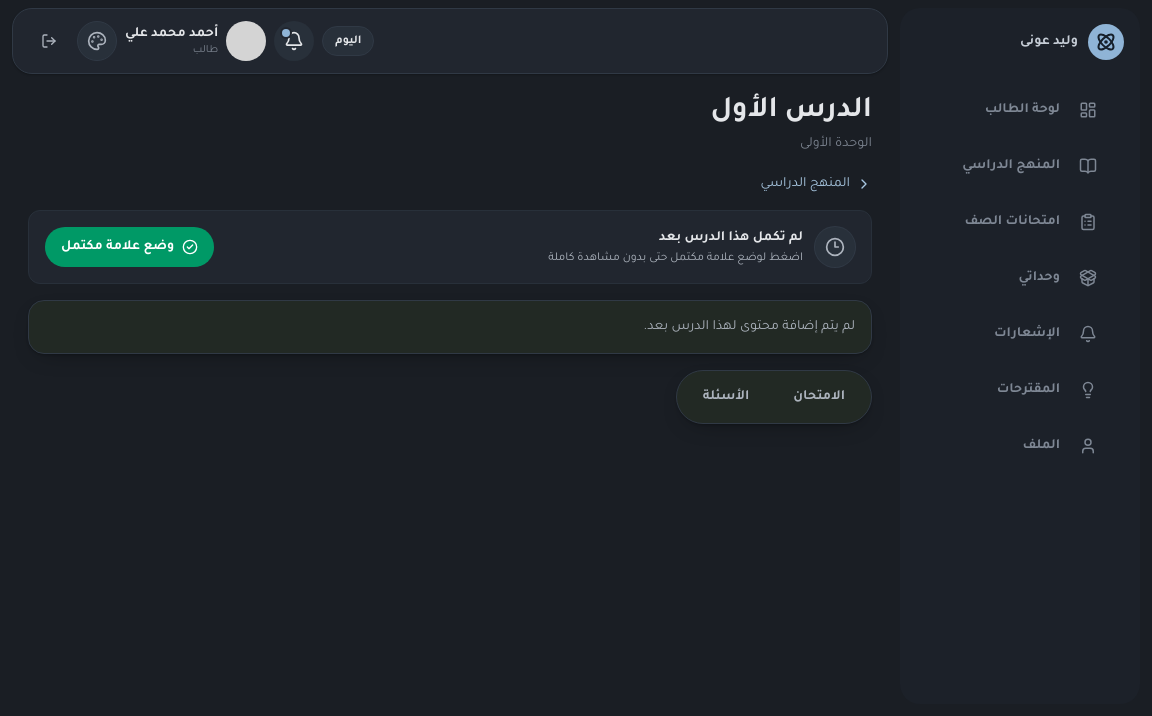
Test: StudentLessonPage — exams tab › renders an mcq exam and grades it automatically after submission
Click the tab with test id "lesson-tab-exams".
click(819, 397)  # box [773,377,865,417]
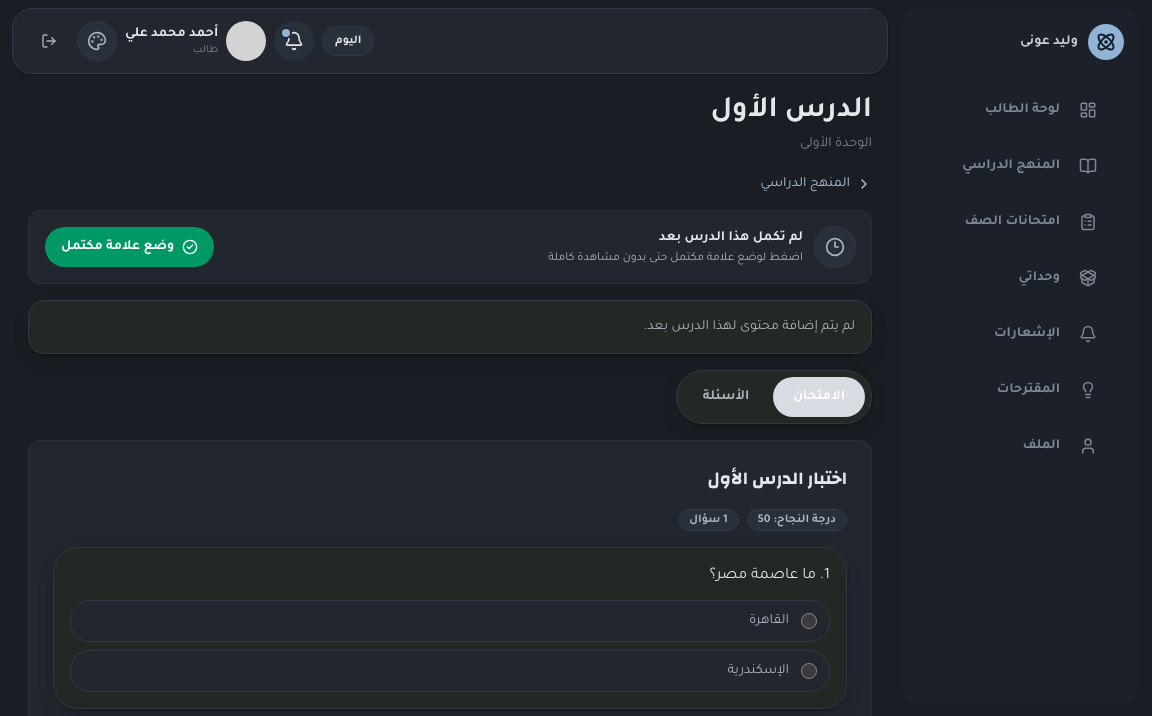
Expected: the heading "اختبار الدرس الأول" is shown, [708,465,847,493]
Click the radio button labelled "القاهرة".
click(809, 621)  # box [801,613,817,629]
(page scrolled)
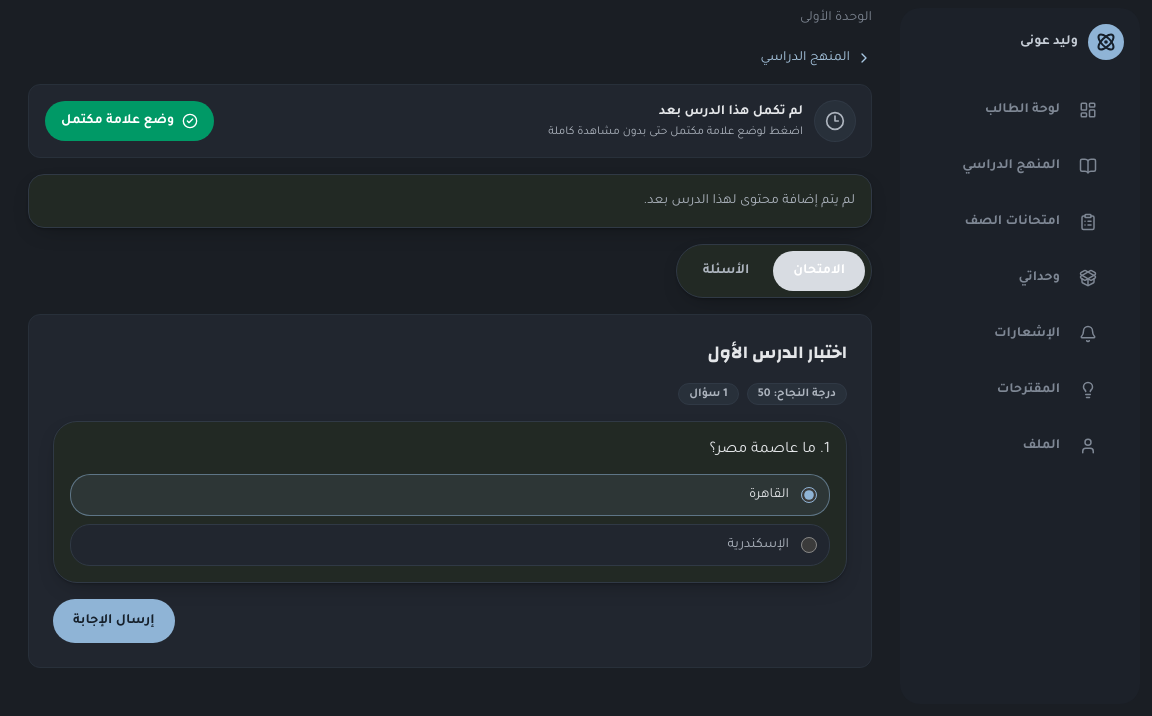
Click the button with test id "exam-submit-exam-1".
click(114, 621)  # box [53,599,174,643]
(page scrolled)
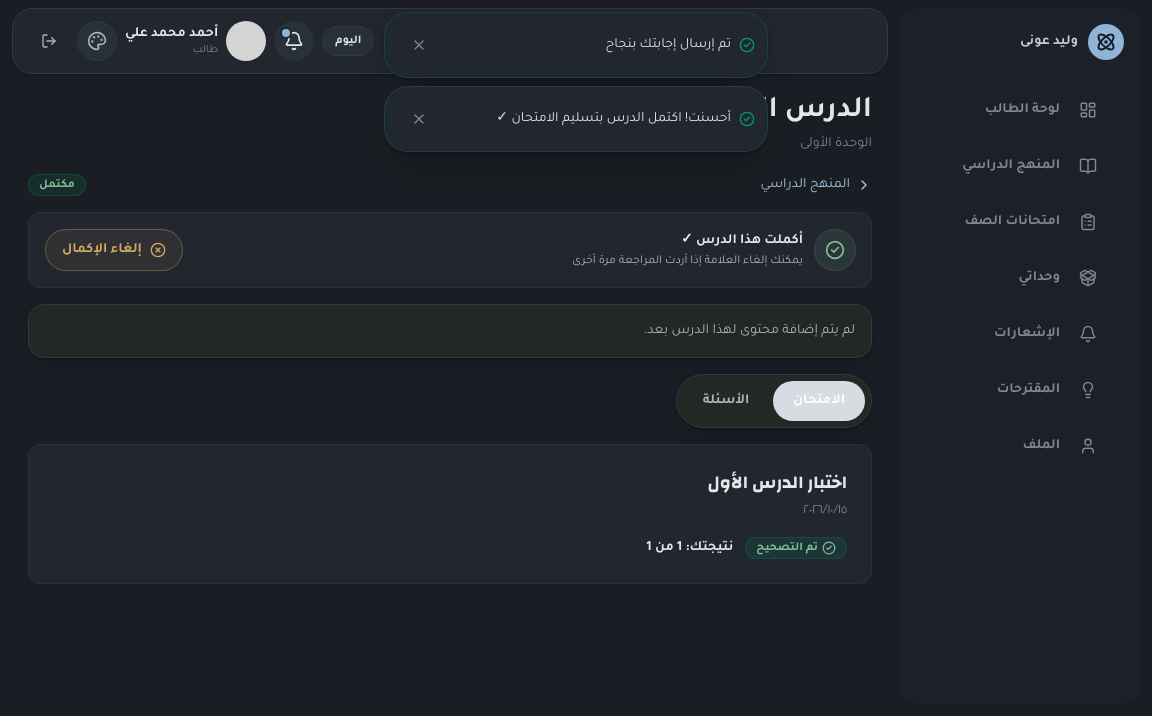
Expected: the element with test id "exam-result-exam-1" is shown, [646,537,847,559]
Expected: the text "تم التصحيح" is shown, [745,537,847,559]
Expected: the text "نتيجتك: 1 من 1" is shown, [646,538,733,558]
